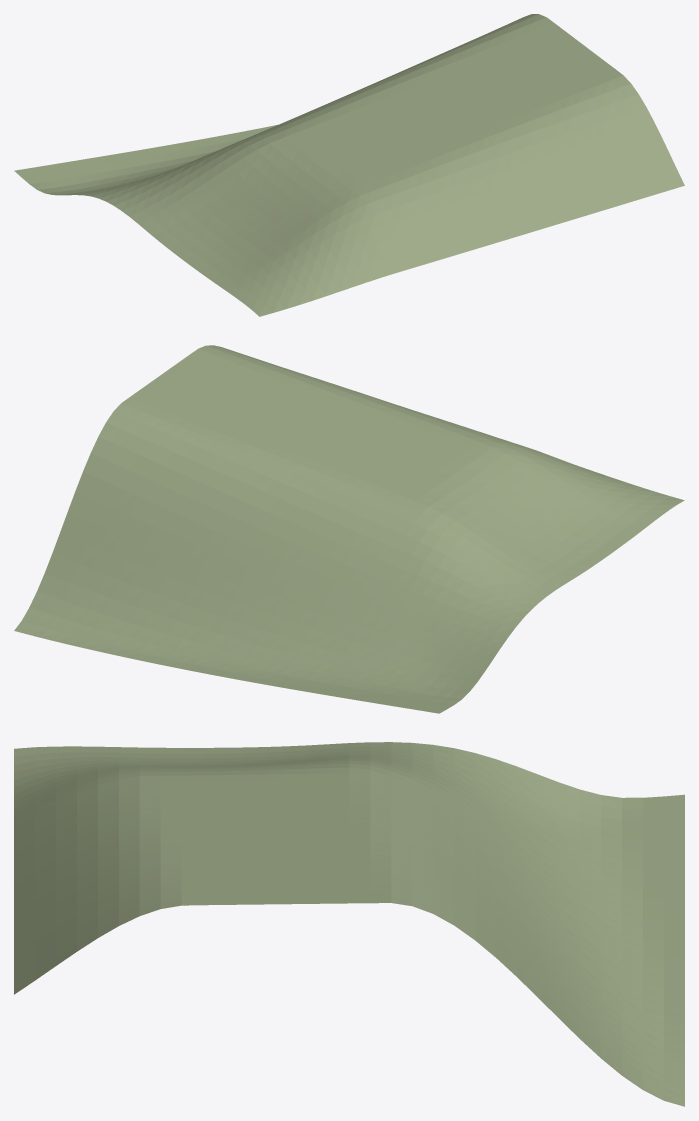
File: alpine-3-2.glb
3 views of the same model, one above another, from view 1: azimuth 30°, elevation 25°; view 2: azimuth 150°, elevation 25°; view 3: azimuth 270°, elevation 25° (orthographic). The views are drawn at different scales.
Visible parts, largest first — view 1: alpine-3-2; view 2: alpine-3-2; view 3: alpine-3-2.
Boxes of the visible parts, x1=… form: alpine-3-2: x1=14, y1=14, x2=684, y2=316; alpine-3-2: x1=14, y1=345, x2=684, y2=713; alpine-3-2: x1=14, y1=742, x2=684, y2=1106.
Size of the model in its own units: 256 by 86.08 by 256.
